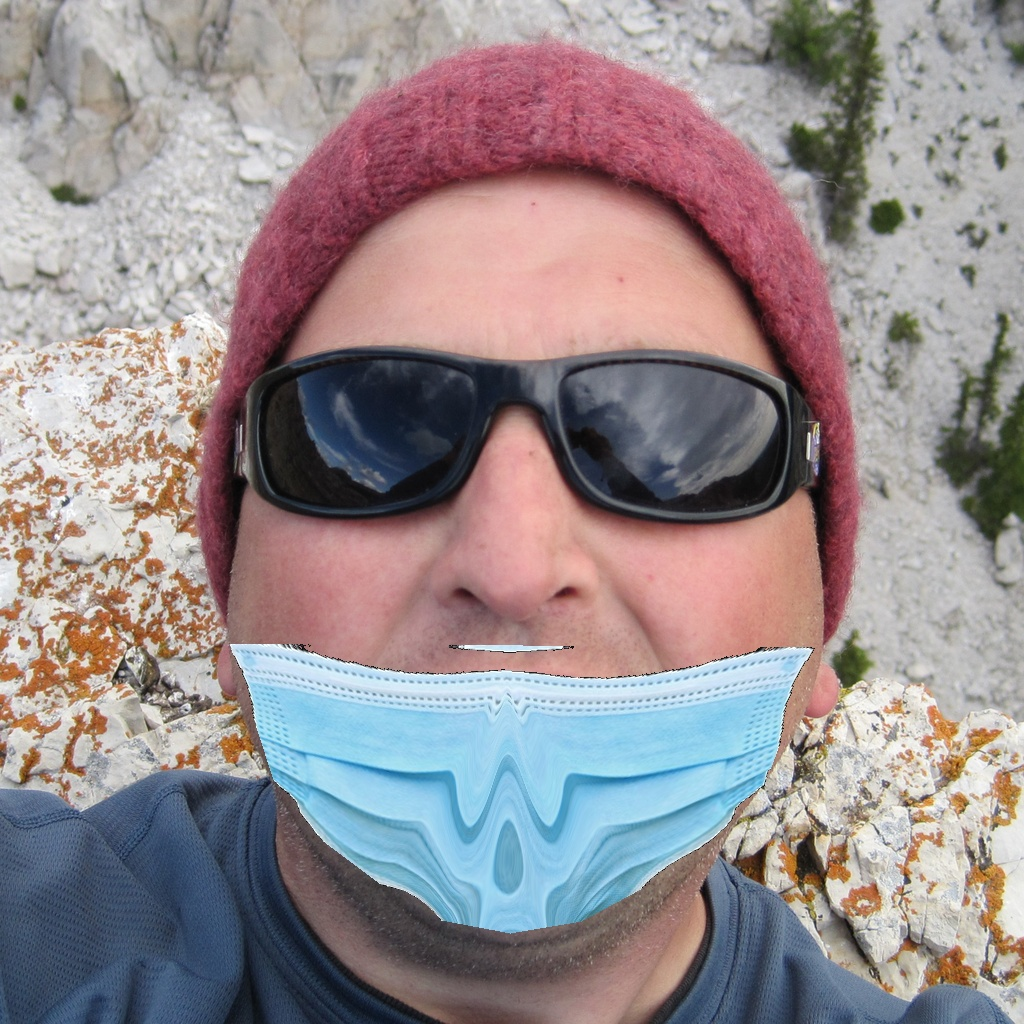mask_weared_incorrect: (253, 357, 813, 952)
